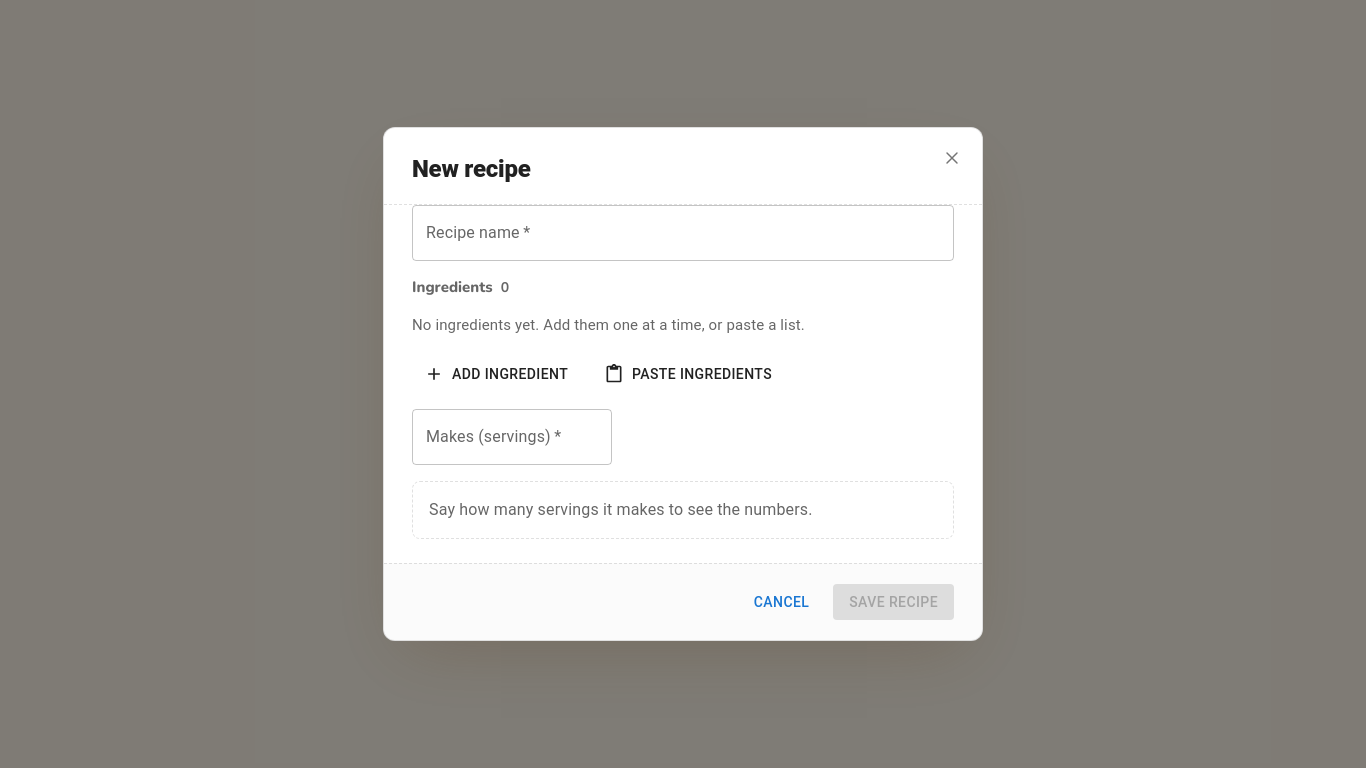
Test: recipe builder: live preview and save › writes protein, carbs and fat in words, and a dash when none is known (review U-4)
This screenshot has width=1366, height=768.
Click the button "Add ingredient" at (498, 374), box [412,356,584,392]
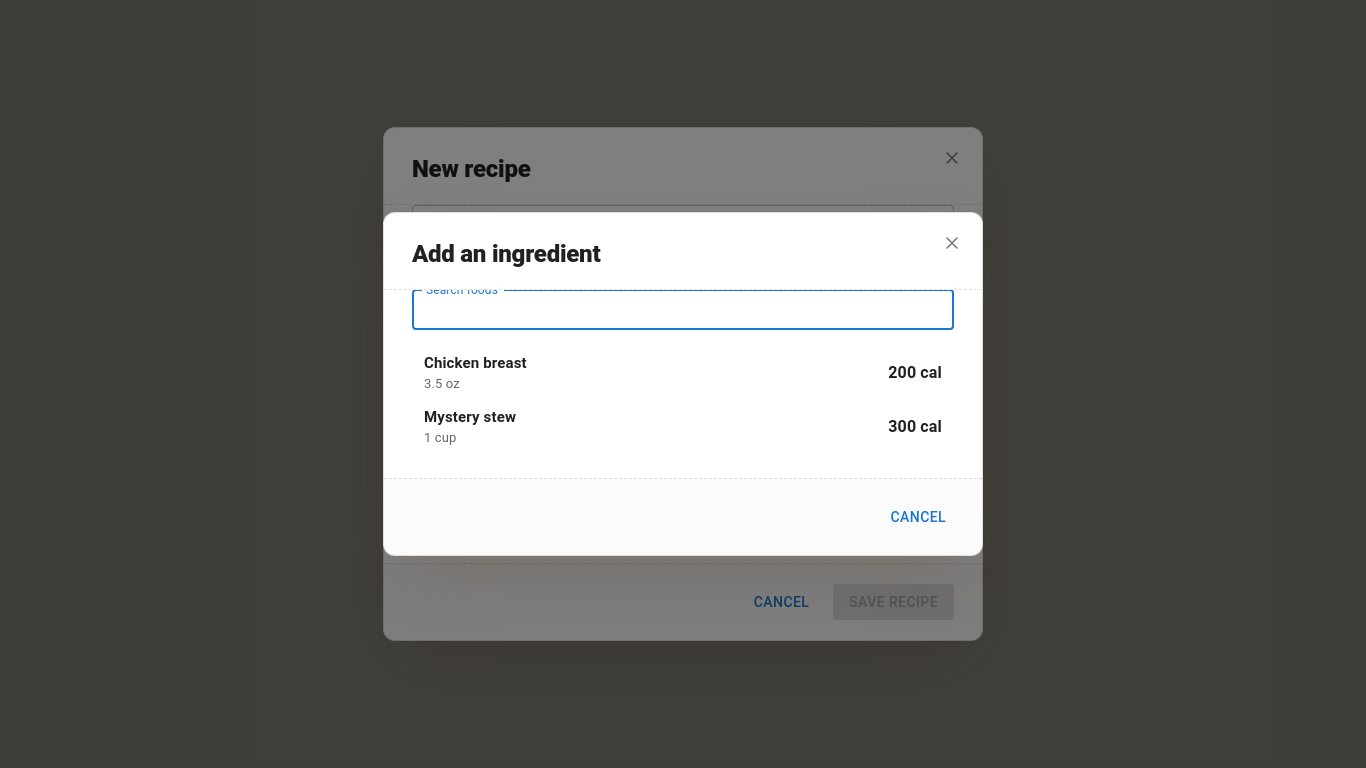
Click the button "Chicken breast 3.5 oz 200 cal" at (475, 363), box [412,346,954,400]
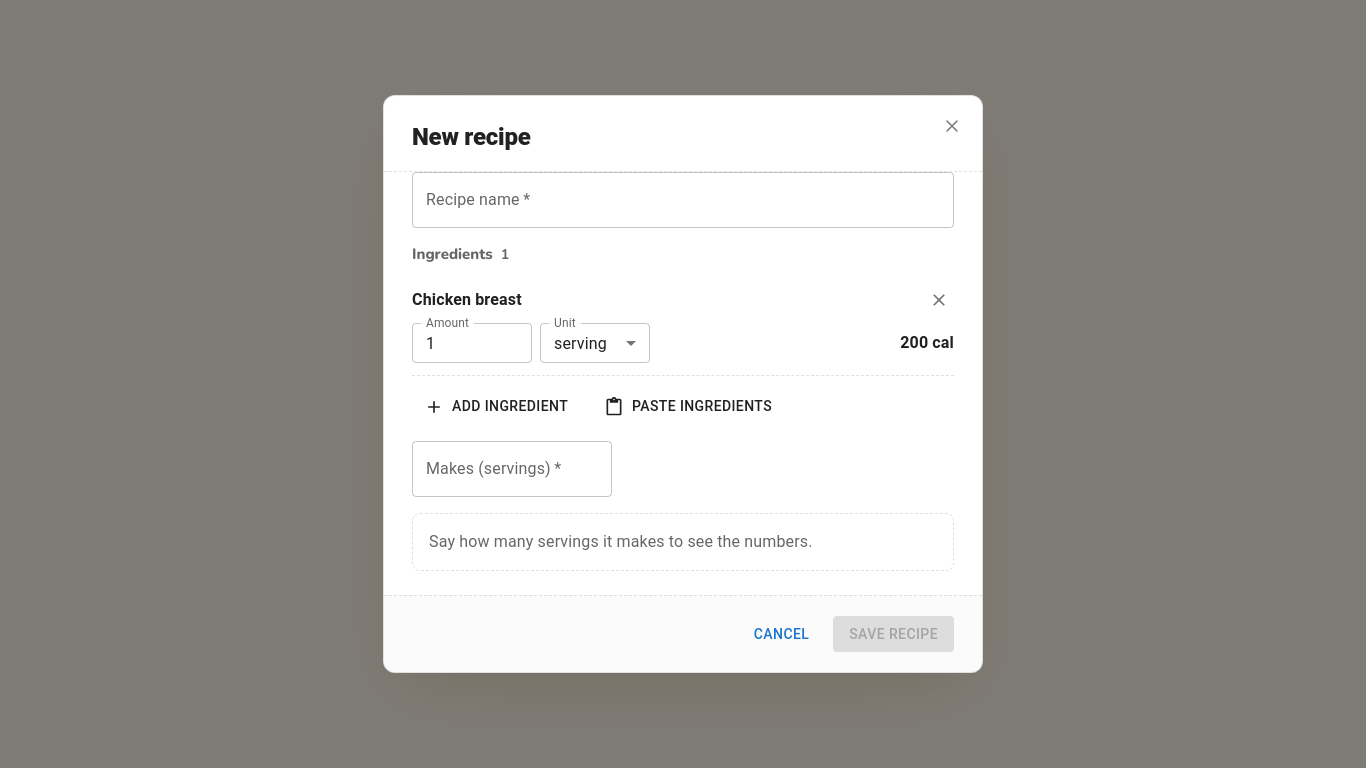
Expected: the label labelled "Search foods" is gone
Type "1" into the number field labelled "Makes (servings) *" at (512, 469), box [412,441,612,497]
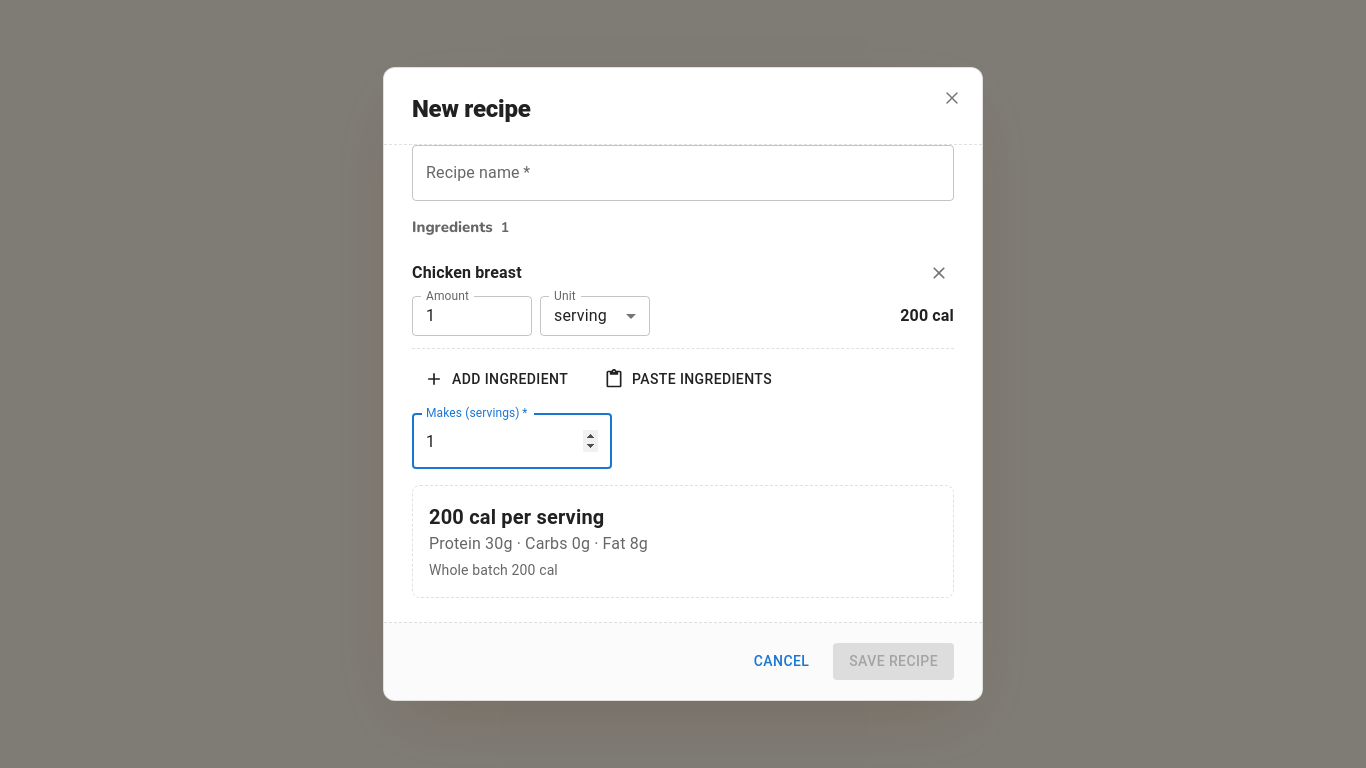
Expected: the text "Protein 30g · Carbs 0g · Fat 8g" is shown, [429,534,648,553]
Click the button named "Remove Chicken breast" at (939, 273), box [924,258,954,288]
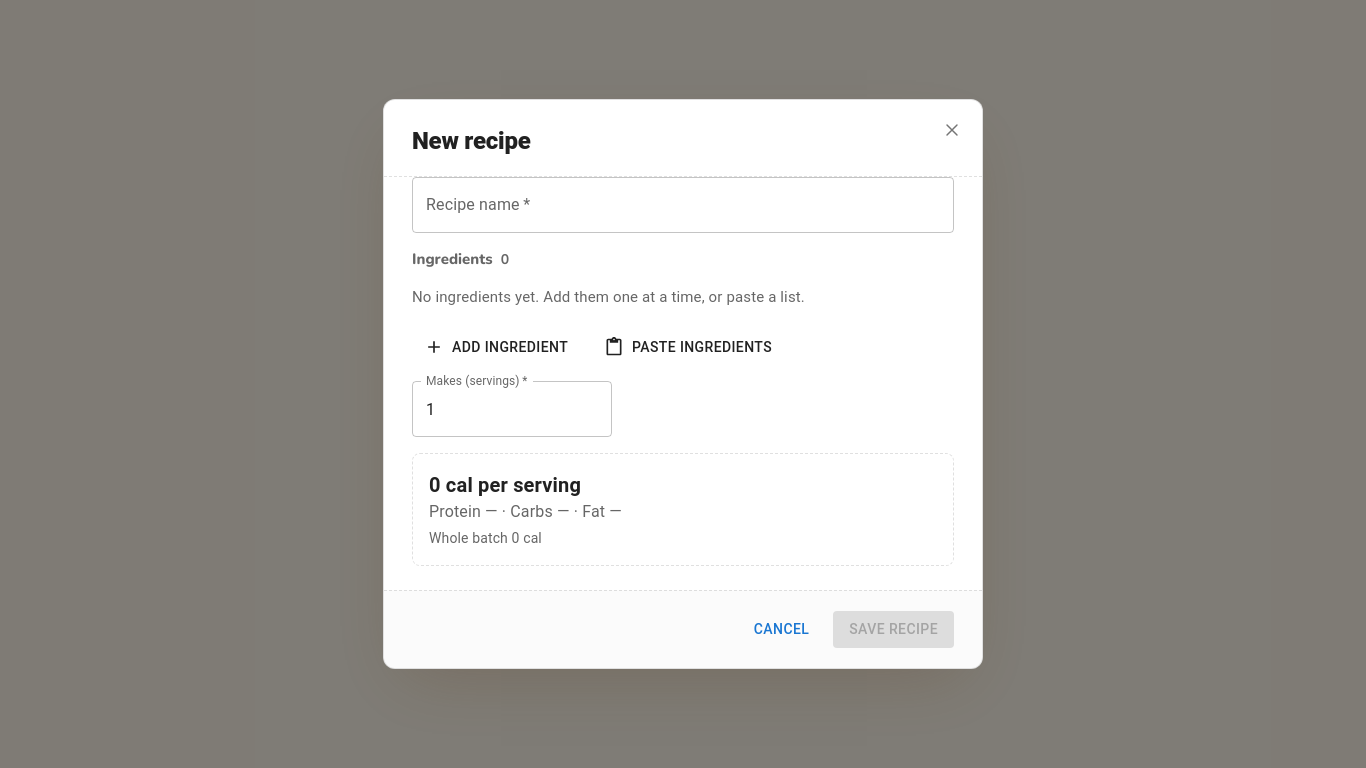
Click the button "Add ingredient" at (498, 347), box [412,328,584,365]
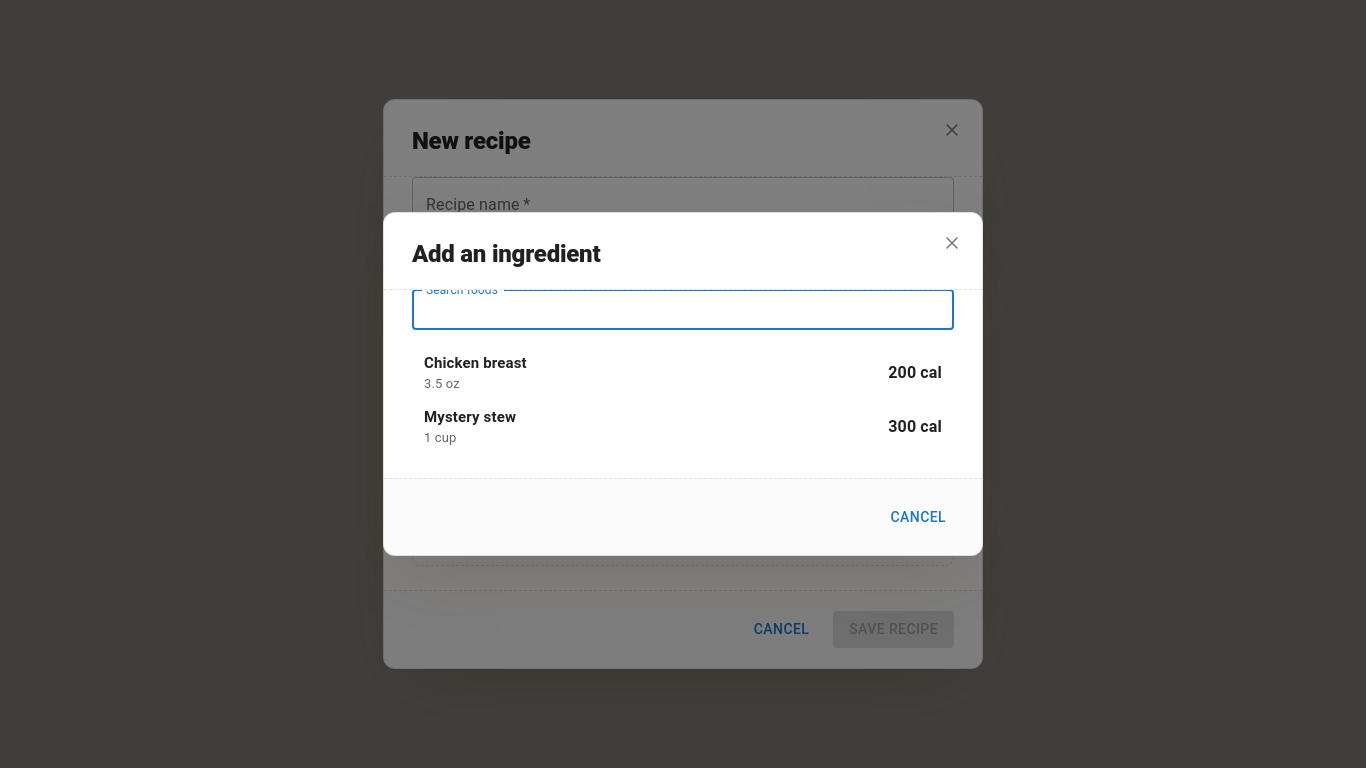
Click the button "Mystery stew 1 cup 300 cal" at (470, 417), box [412,400,954,454]
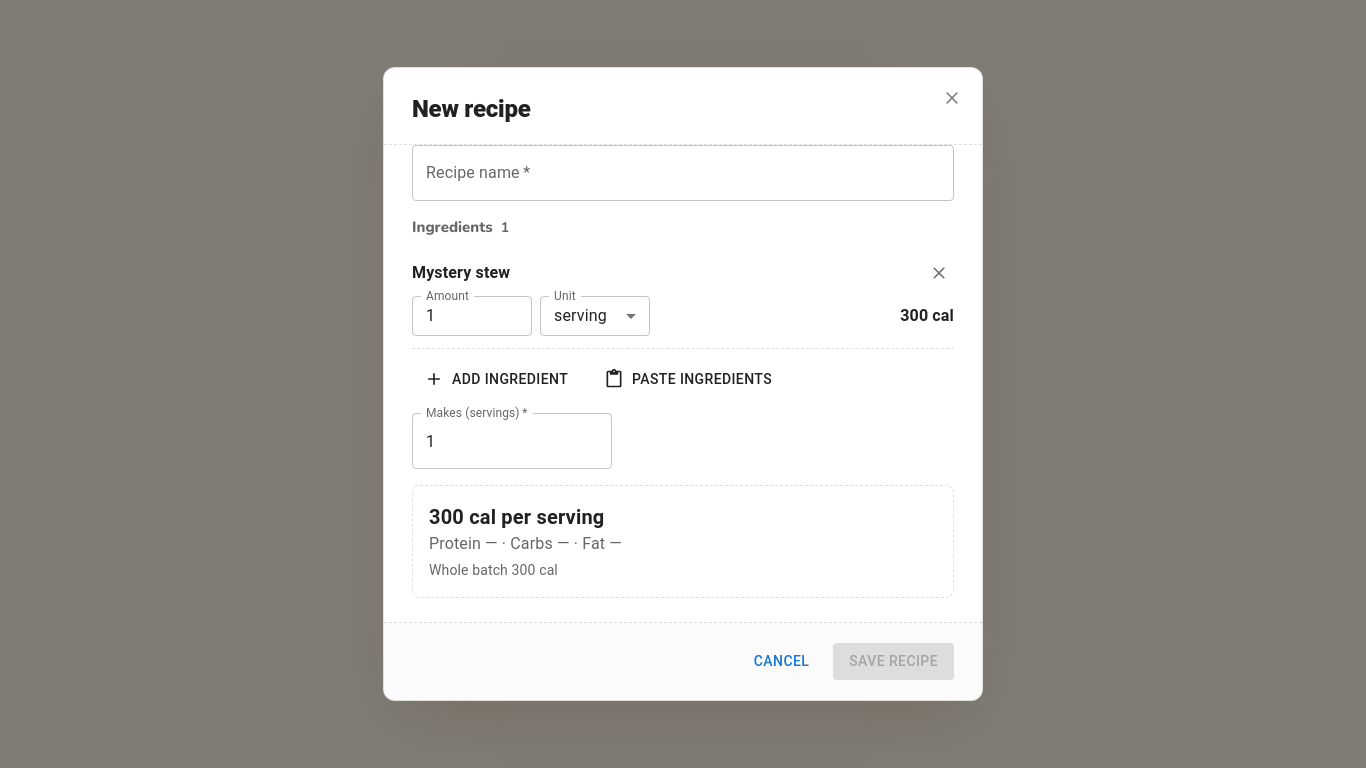
Expected: the text "Protein — · Carbs — · Fat —" is shown, [429,534,622,553]
Expected: the label labelled "Search foods" is gone
